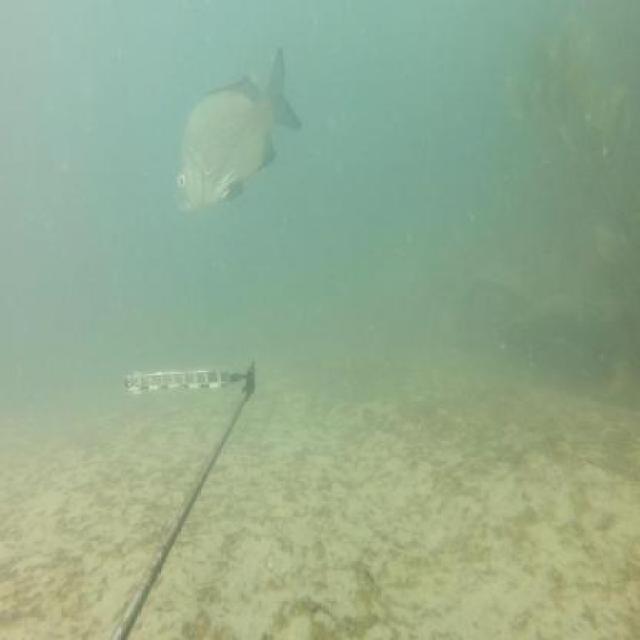acanthopagrus_palmaris: (172, 44, 305, 224)
